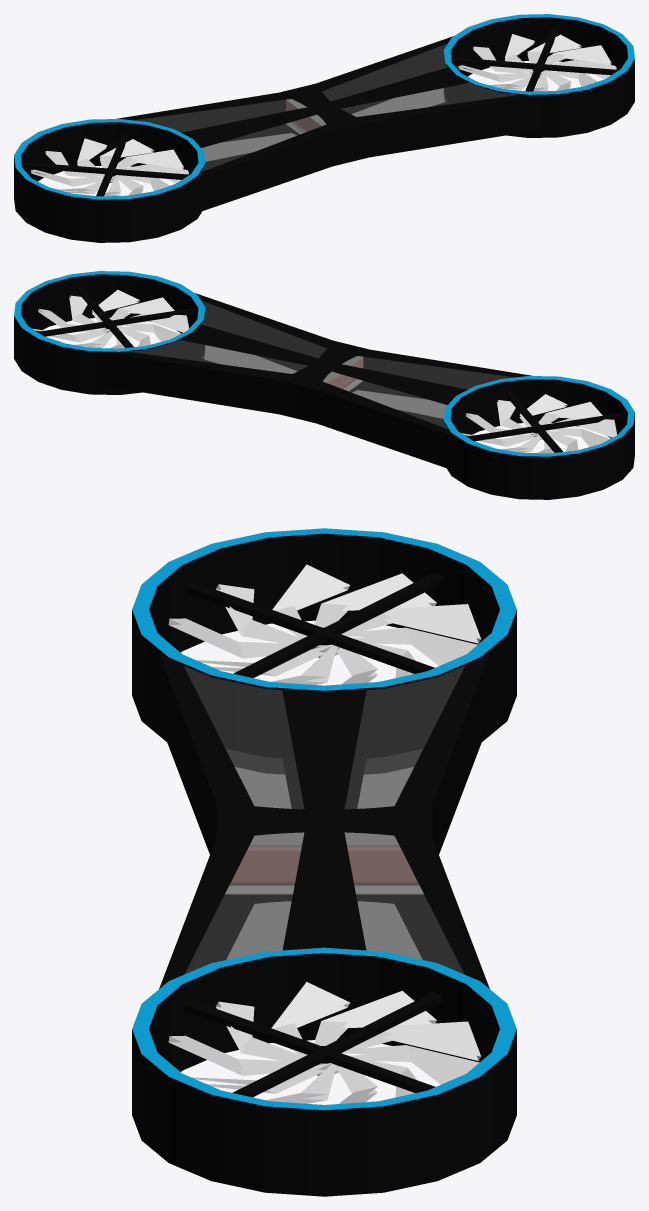
The model's file is cyberHover.fbx.
The picture shows the model from 3 angles, top to bottom: view 1: azimuth 30°, elevation 25°; view 2: azimuth 150°, elevation 25°; view 3: azimuth 270°, elevation 25°; orthographic projection. The views are drawn at different scales.
Parts seen in each view (by area): view 1: polySurface4; view 2: polySurface4; view 3: polySurface4.
Boxes of the visible parts, x1=… form: polySurface4: x1=14, y1=14, x2=634, y2=242; polySurface4: x1=14, y1=271, x2=634, y2=499; polySurface4: x1=132, y1=528, x2=516, y2=1196.
Bounding box in the file's own units: 163 × 11.31 × 45.6.
